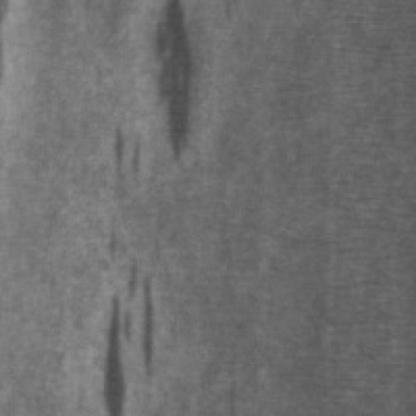inclusion: (92, 114, 156, 410), (148, 0, 198, 160)
